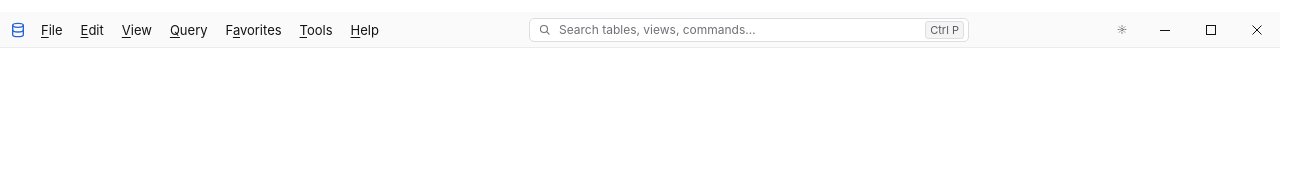
Test: TitleBar › maximize toggles and the button turns into Restore down
Click the button named "Maximize" at [1211, 30], box [1188, 12, 1234, 47]
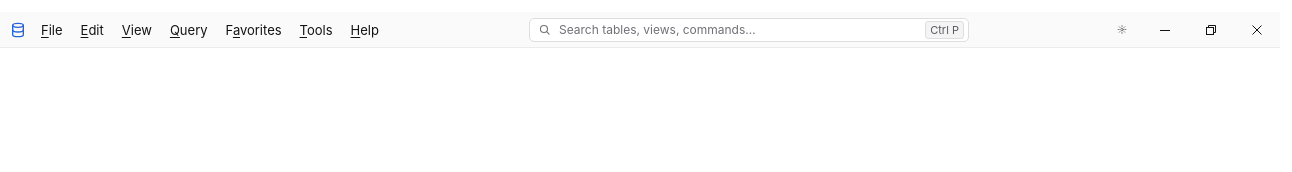
Click the button named "Restore down" at [1211, 30], box [1188, 12, 1234, 47]
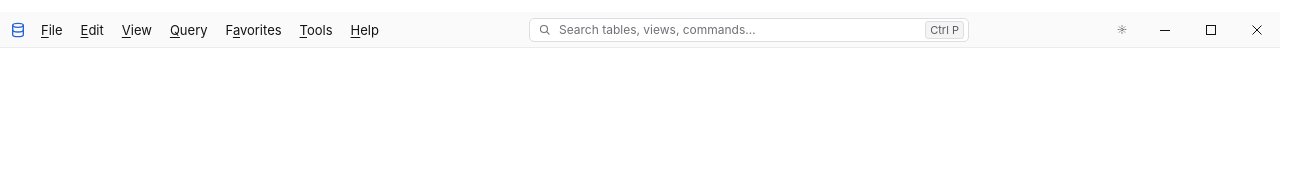
expect the button named "Maximize" is shown: met, box [1188, 12, 1234, 47]
